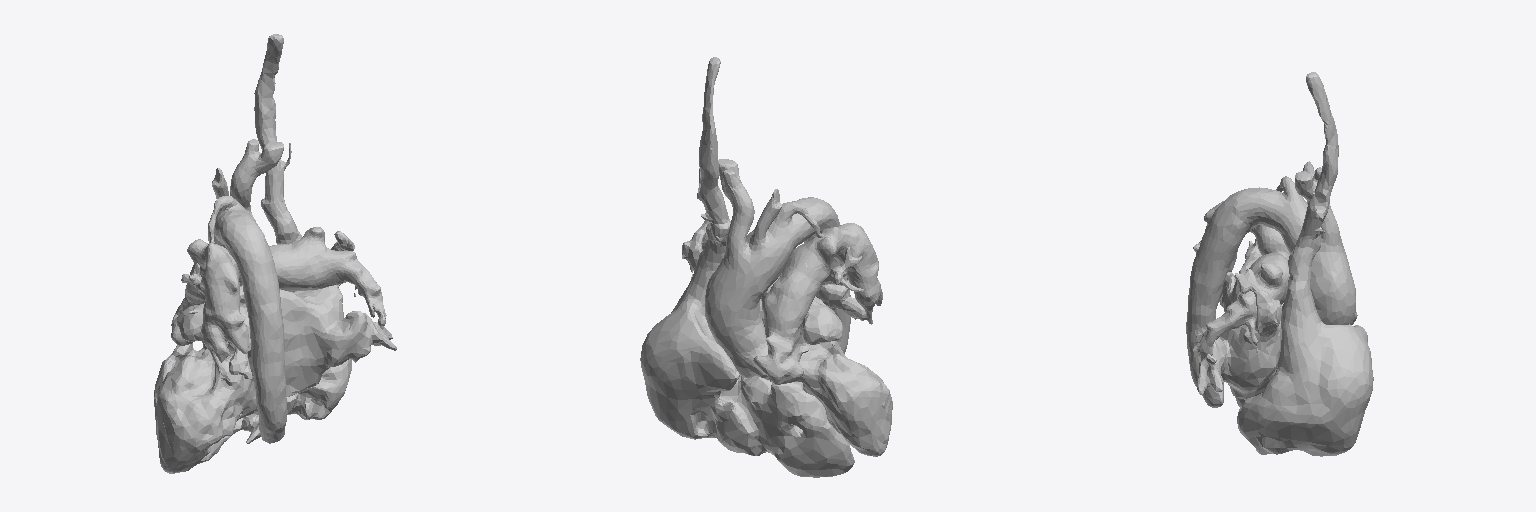
File: 2018002-01PulmonaryArterylowres.obj
3 views of the same model, side by side, from view 1: azimuth 30°, elevation 25°; view 2: azimuth 150°, elevation 25°; view 3: azimuth 270°, elevation 25° (orthographic).
Parts seen in each view (by area): view 1: [number redacted]_Aorta, [number redacted]_Pulmonary_Artery, [number redacted]_Left_Atrium, [number redacted]_Left_Ventricle, [number redacted]_Right_Atrium, [number redacted]_Right_Ventricle; view 2: [number redacted]_Right_Atrium, [number redacted]_Aorta, [number redacted]_Pulmonary_Artery, [number redacted]_Right_Ventricle, [number redacted]_Left_Ventricle, [number redacted]_Left_Atrium; view 3: [number redacted]_Right_Atrium, [number redacted]_Aorta, [number redacted]_Left_Atrium, [number redacted]_Pulmonary_Artery.
Part boxes in pixels (bbox=[...]): [number redacted]_Aorta: bbox=[202, 139, 287, 443]; [number redacted]_Pulmonary_Artery: bbox=[171, 227, 385, 373]; [number redacted]_Left_Atrium: bbox=[177, 231, 396, 396]; [number redacted]_Left_Ventricle: bbox=[156, 347, 256, 473]; [number redacted]_Right_Atrium: bbox=[254, 34, 351, 419]; [number redacted]_Right_Ventricle: bbox=[154, 343, 297, 471]; [number redacted]_Right_Atrium: bbox=[640, 57, 744, 445]; [number redacted]_Aorta: bbox=[705, 159, 850, 379]; [number redacted]_Pulmonary_Artery: bbox=[690, 223, 882, 384]; [number redacted]_Right_Ventricle: bbox=[723, 376, 854, 477]; [number redacted]_Left_Ventricle: bbox=[795, 341, 892, 456]; [number redacted]_Left_Atrium: bbox=[682, 220, 866, 344]; [number redacted]_Right_Atrium: bbox=[1237, 72, 1373, 456]; [number redacted]_Aorta: bbox=[1186, 161, 1355, 407]; [number redacted]_Left_Atrium: bbox=[1197, 239, 1283, 399]; [number redacted]_Pulmonary_Artery: bbox=[1192, 201, 1357, 356].
Size of the model in its own units: 161 by 290 by 123.